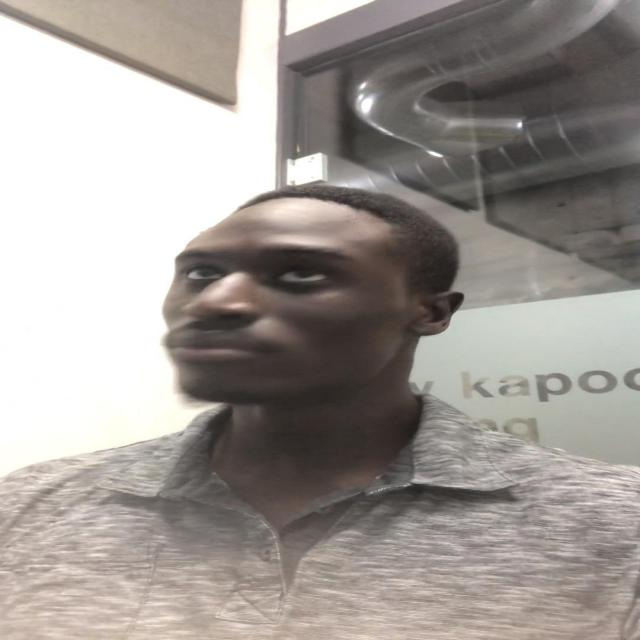face: (160, 215, 420, 406)
